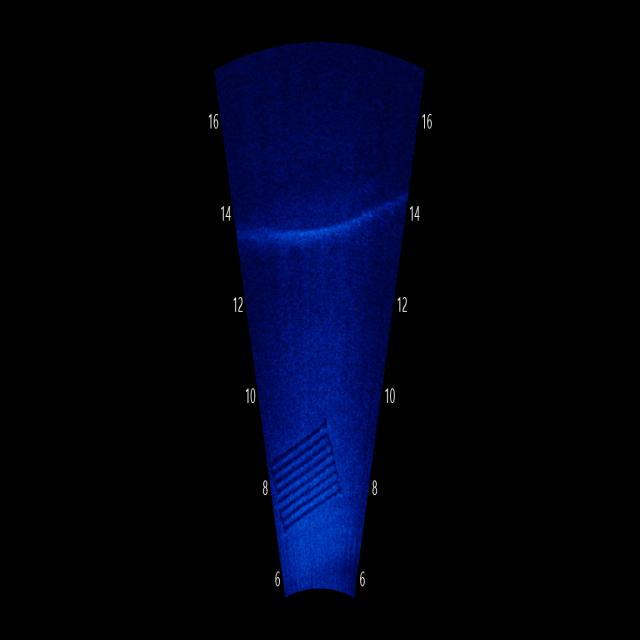square: (270, 416, 342, 542)
